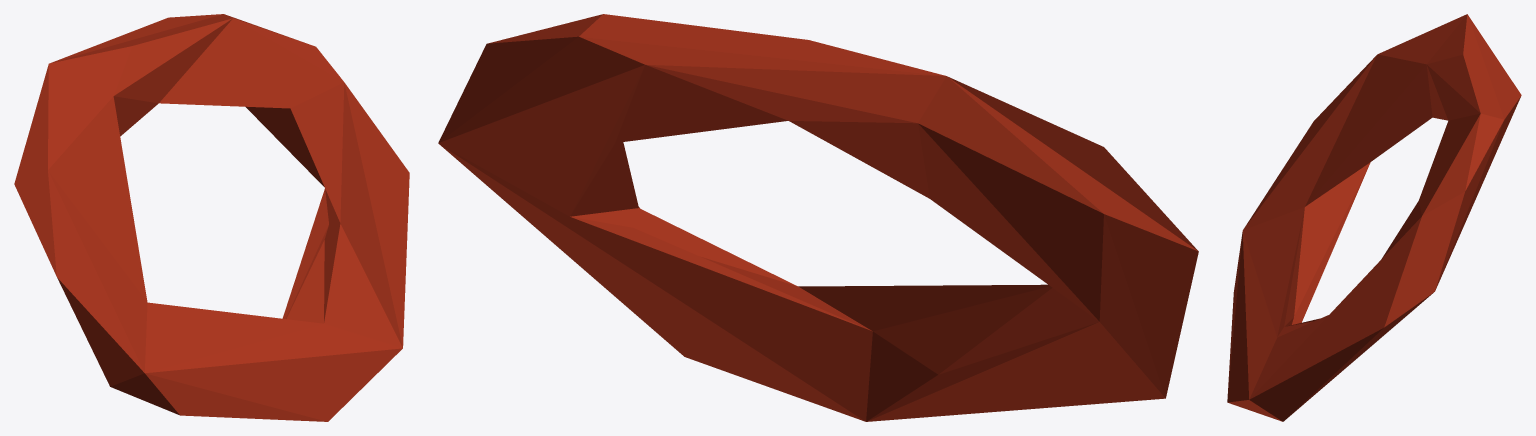
Rendered from cove-lifebuoy.lod2.glb.
3 renders of one model, left to right at view 1: azimuth 30°, elevation 25°; view 2: azimuth 150°, elevation 25°; view 3: azimuth 270°, elevation 25°, orthographic. The views are drawn at different scales.
Visible parts, largest first — view 1: Object_2; view 2: Object_2; view 3: Object_2.
Part boxes in pixels (x1=…): Object_2: x1=14, y1=14, x2=409, y2=421; Object_2: x1=438, y1=14, x2=1198, y2=421; Object_2: x1=1227, y1=14, x2=1521, y2=421.
Bounding box in the file's own units: 0.7207 × 0.5494 × 0.472.
